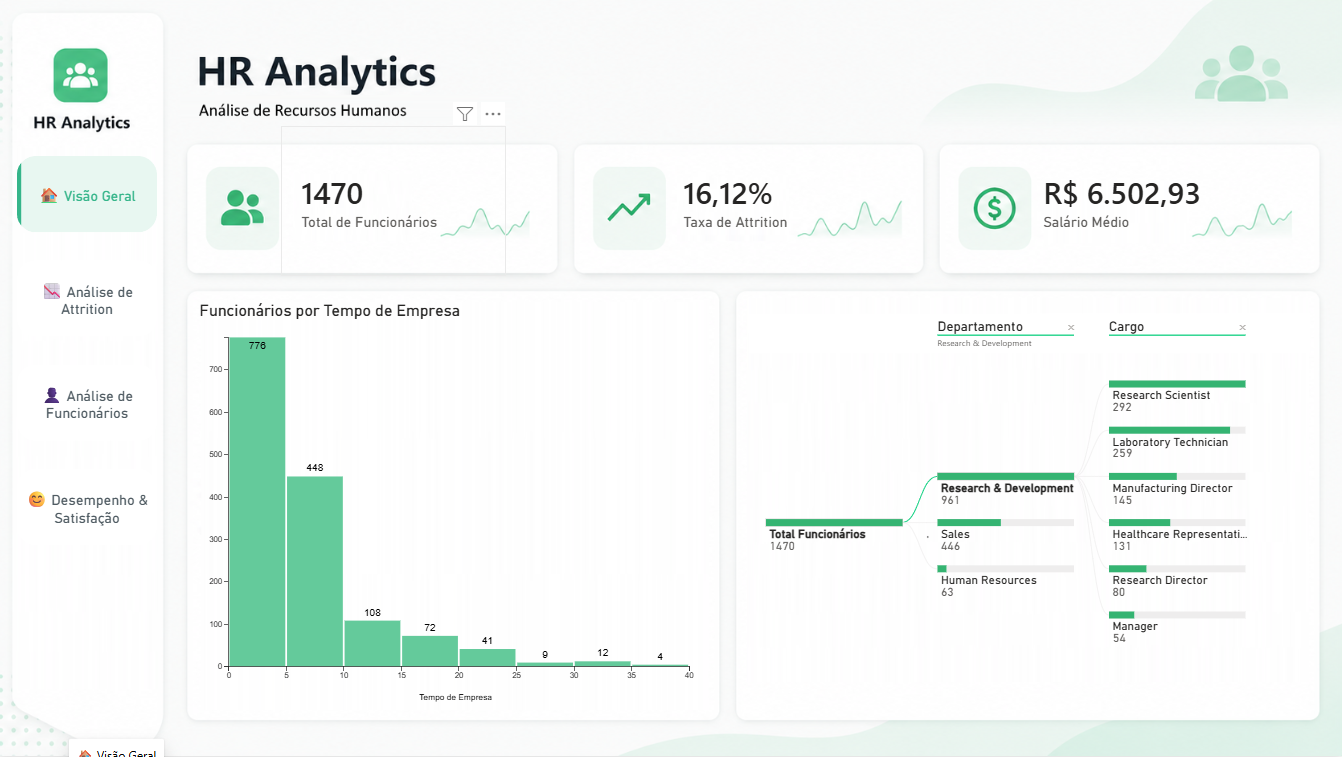

The dashboard page shown, as its layout file describes it:
{"tool":"powerbi","page":{"name":"🏠 Visão Geral","canvas":[1920,1080],"ordinal":0},"visuals":[{"type":"cardVisual","fields":{"Data":["Tabela.Total Funcionários"]},"box":[404.3,180,321.4,214.3],"z":0},{"type":"cardVisual","fields":{"Data":["Tabela.Taxa de Attrition"]},"box":[950,180,299.6,214],"z":1000},{"type":"cardVisual","fields":{"Data":["Tabela.Salário Médio"]},"box":[1464.3,180,329.7,214],"z":2000},{"type":"decompositionTreeVisual","fields":{"ExplainBy":["Human_Resources.Department","Human_Resources.JobRole"],"Analyze":["Medidas.Total Funcionários"]},"box":[1067.1,442.9,812.9,591.4],"z":3000},{"type":"Histogram1445664487616","fields":{"Values":["Human_Resources.YearsAtCompany"],"Frequency":["Medidas.Total Funcionários"]},"box":[282.9,430,734.3,587.1],"z":4000},{"type":"pageNavigator","box":[26.6,223.4,200.8,558.6],"z":5000}]}

Visuals, with their boxes on the page's 1920x1080 design canvas (x1, y1, x2, y2). These are canvas units, not pixel positions in the 1342x757 screenshot, which may show the page scaled, cropped or inside an application window:
cardVisual - Tabela.Total Funcionários: select_region(404, 180, 726, 394)
cardVisual - Tabela.Taxa de Attrition: select_region(950, 180, 1250, 394)
cardVisual - Tabela.Salário Médio: select_region(1464, 180, 1794, 394)
decompositionTreeVisual - Human_Resources.Department x Human_Resources.JobRole: select_region(1067, 443, 1880, 1034)
Histogram1445664487616 - Human_Resources.YearsAtCompany x Medidas.Total Funcionários: select_region(283, 430, 1017, 1017)
pageNavigator: select_region(27, 223, 227, 782)
